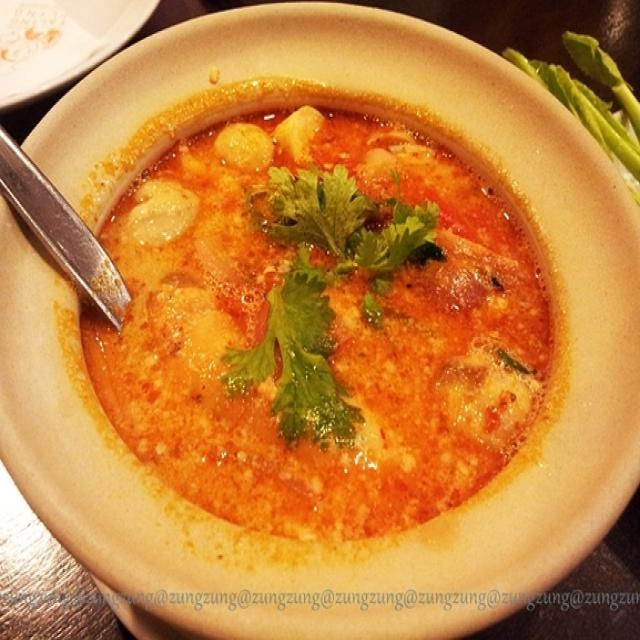汤锅炖物: (43, 50, 598, 599)
